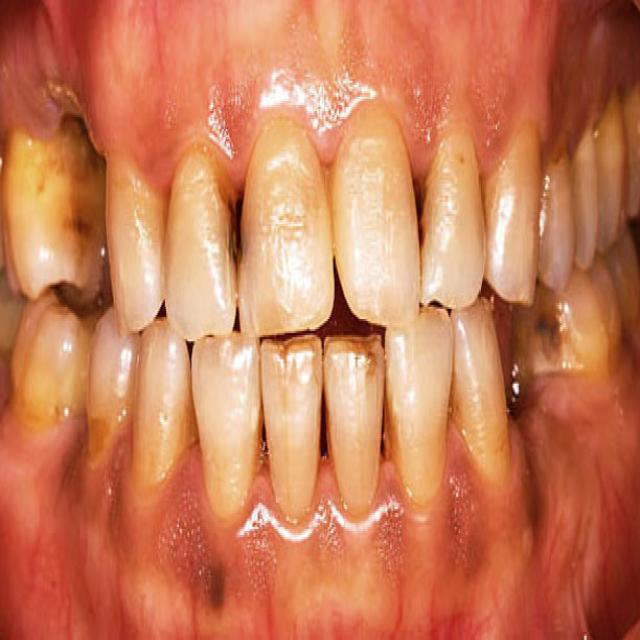caries: (404, 162, 443, 250), (222, 183, 253, 276), (246, 396, 278, 474), (373, 389, 400, 464), (311, 385, 336, 463)
